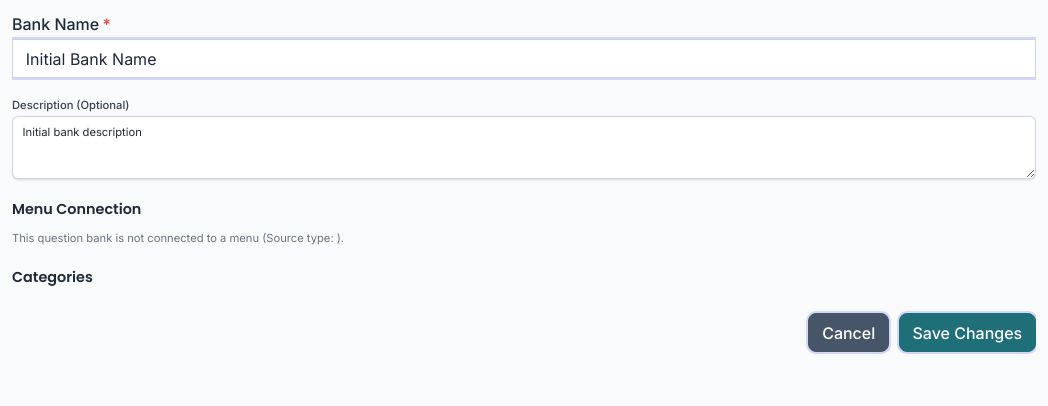
it: EditQuestionBankForm › handles API error with generic message if specific one is not available
The width and height of the screenshot is (1048, 406).
Replace the text in the field labelled "Bank Name*" with "Yet Another Name" at x=524, y=59, box [12, 39, 1036, 78]
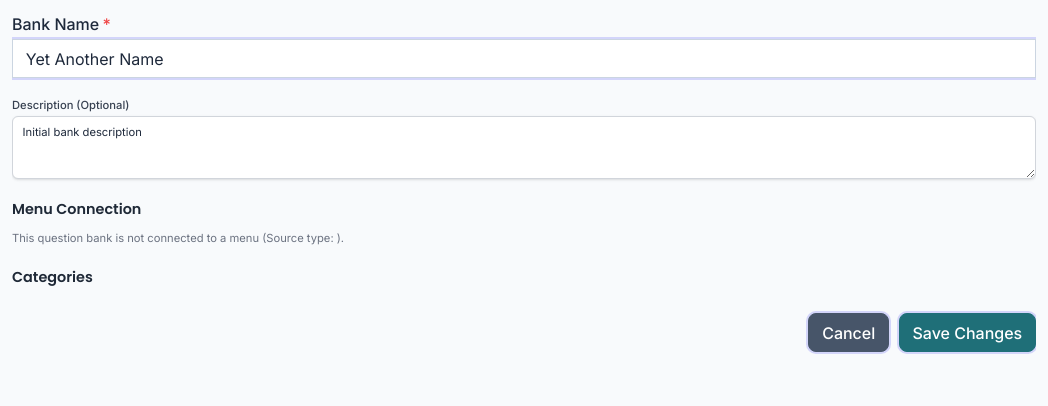
Click the button "Save Changes" at x=967, y=333, box [899, 314, 1036, 352]
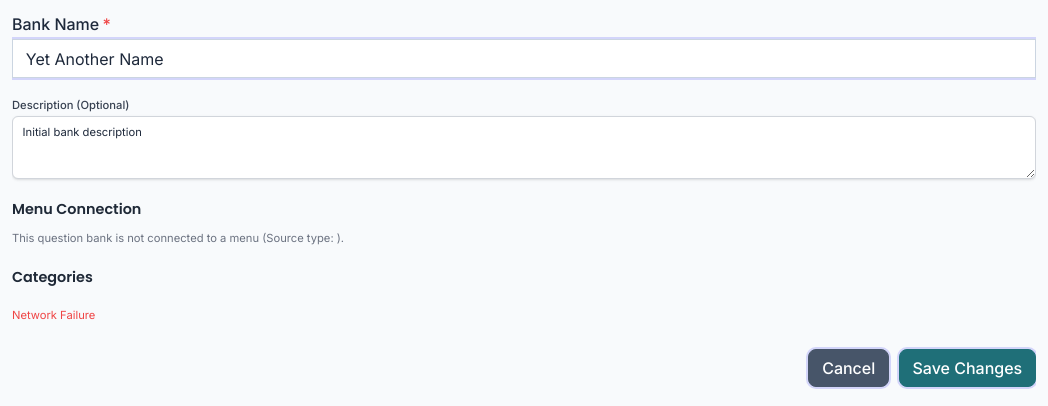
Expected: the text "Network Failure" is shown, [12, 308, 95, 322]
